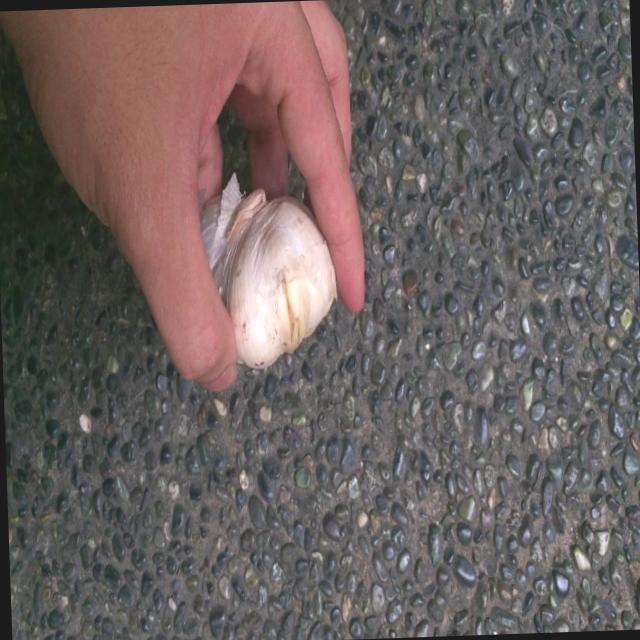garlic: (202, 176, 349, 380)
